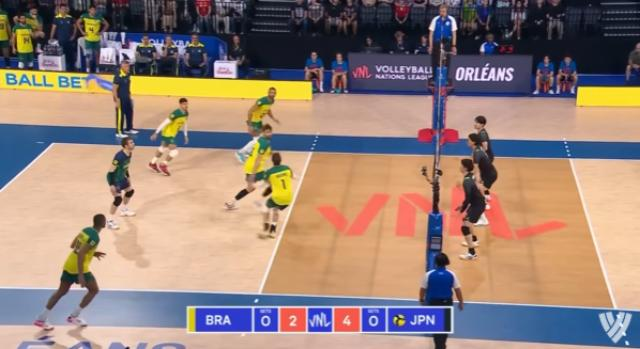Levantador: (255, 144, 302, 242), (468, 109, 494, 151)
Libero: (98, 133, 146, 232)
